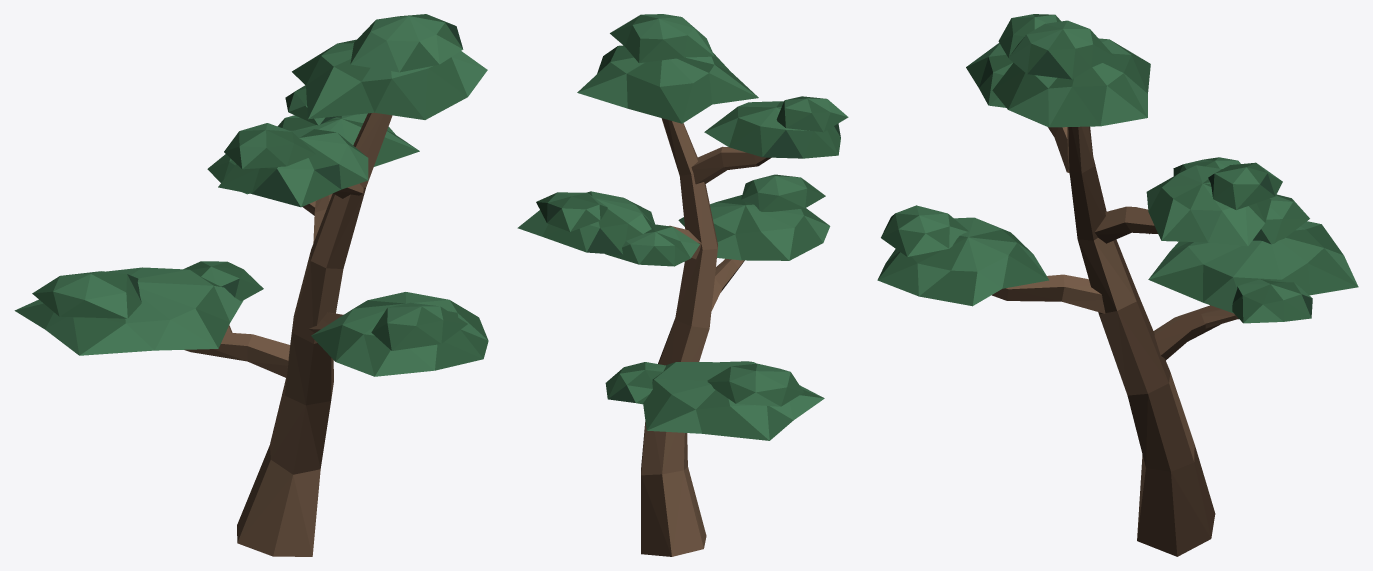
File: tree_pine_b.fbx
3 views of the same model, side by side, from view 1: azimuth 30°, elevation 25°; view 2: azimuth 150°, elevation 25°; view 3: azimuth 270°, elevation 25° (orthographic). The views are drawn at different scales.
Visible parts, largest first — view 1: tree_pine_b; view 2: tree_pine_b; view 3: tree_pine_b.
Boxes of the visible parts, left/top/right/bottom form: tree_pine_b: left=14, top=14, right=488, bottom=556; tree_pine_b: left=517, top=14, right=848, bottom=556; tree_pine_b: left=877, top=14, right=1358, bottom=556.
Size of the model in its own units: 4.8 by 7.74 by 6.17.
